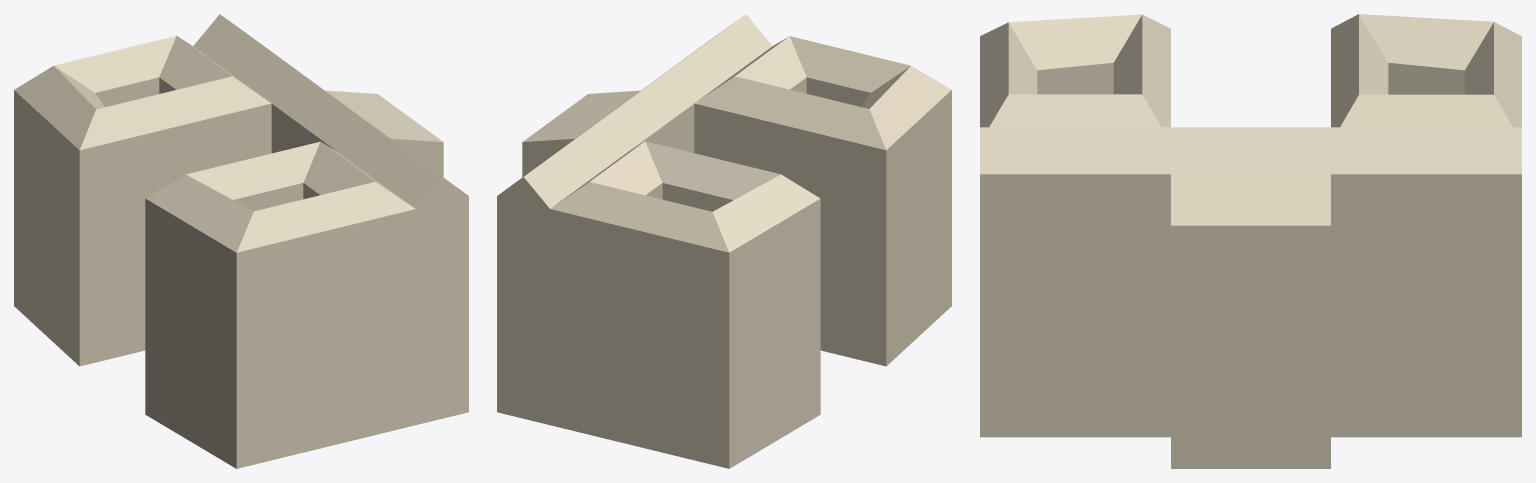
Rendered from SM_Alexandra_Court.fbx.
The picture shows the model from 3 angles, left to right: view 1: azimuth 30°, elevation 25°; view 2: azimuth 150°, elevation 25°; view 3: azimuth 270°, elevation 25°; orthographic projection. The views are drawn at different scales.
Parts seen in each view (by area): view 1: SM_Alexandra_Court; view 2: SM_Alexandra_Court; view 3: SM_Alexandra_Court.
Boxes of the visible parts, bbox=[...] form: SM_Alexandra_Court: bbox=[14, 14, 468, 468]; SM_Alexandra_Court: bbox=[497, 14, 951, 468]; SM_Alexandra_Court: bbox=[980, 14, 1521, 468].
Size of the model in its own units: 37.17 by 28.8 by 48.03.
